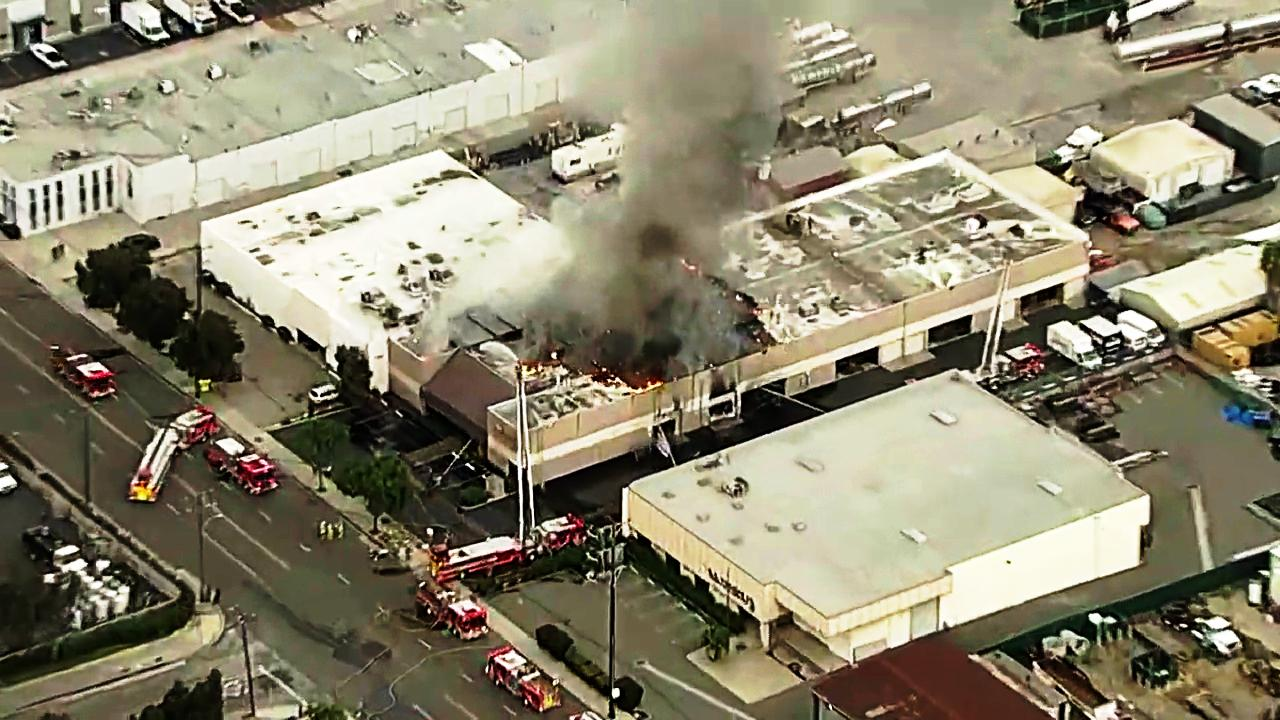smoke: (592, 11, 753, 359)
